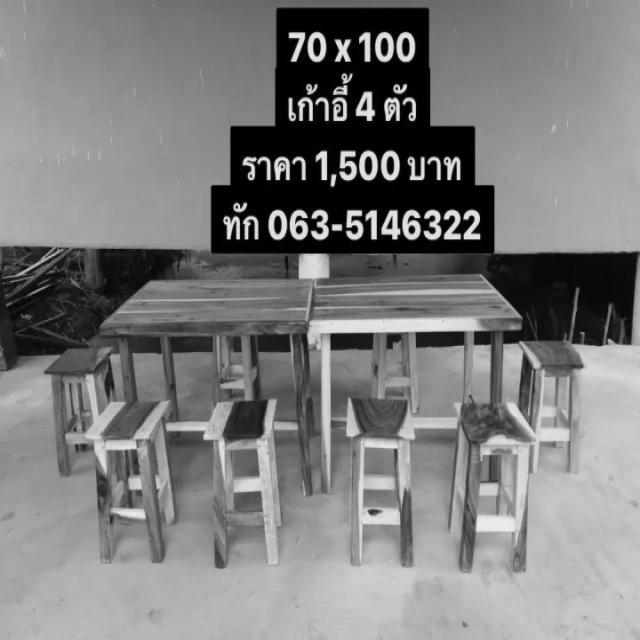table: (317, 262, 525, 352), (110, 260, 308, 354)
